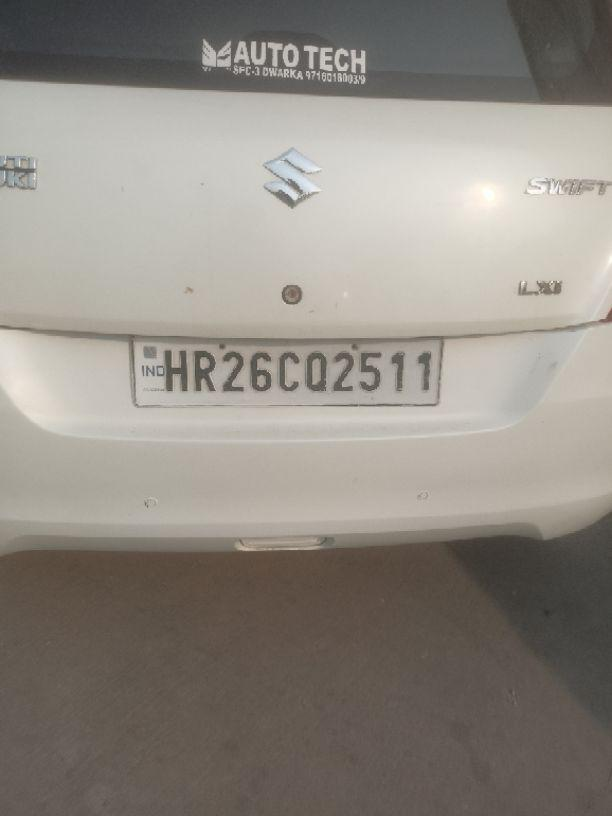license_plate: (128, 335, 444, 408)
